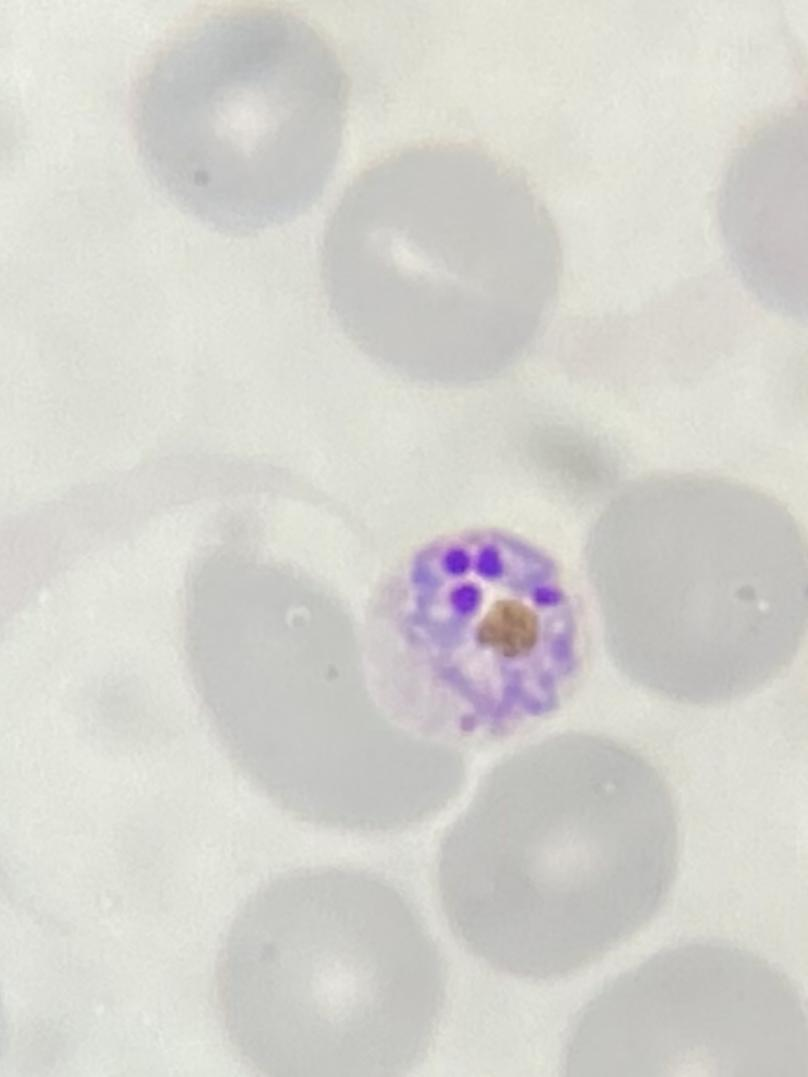Infected: (368, 526, 588, 742)
Uninfected: (185, 540, 470, 834), (325, 138, 562, 394), (437, 735, 675, 978), (584, 475, 805, 706), (213, 868, 442, 1074), (134, 8, 347, 227), (555, 941, 808, 1076)
